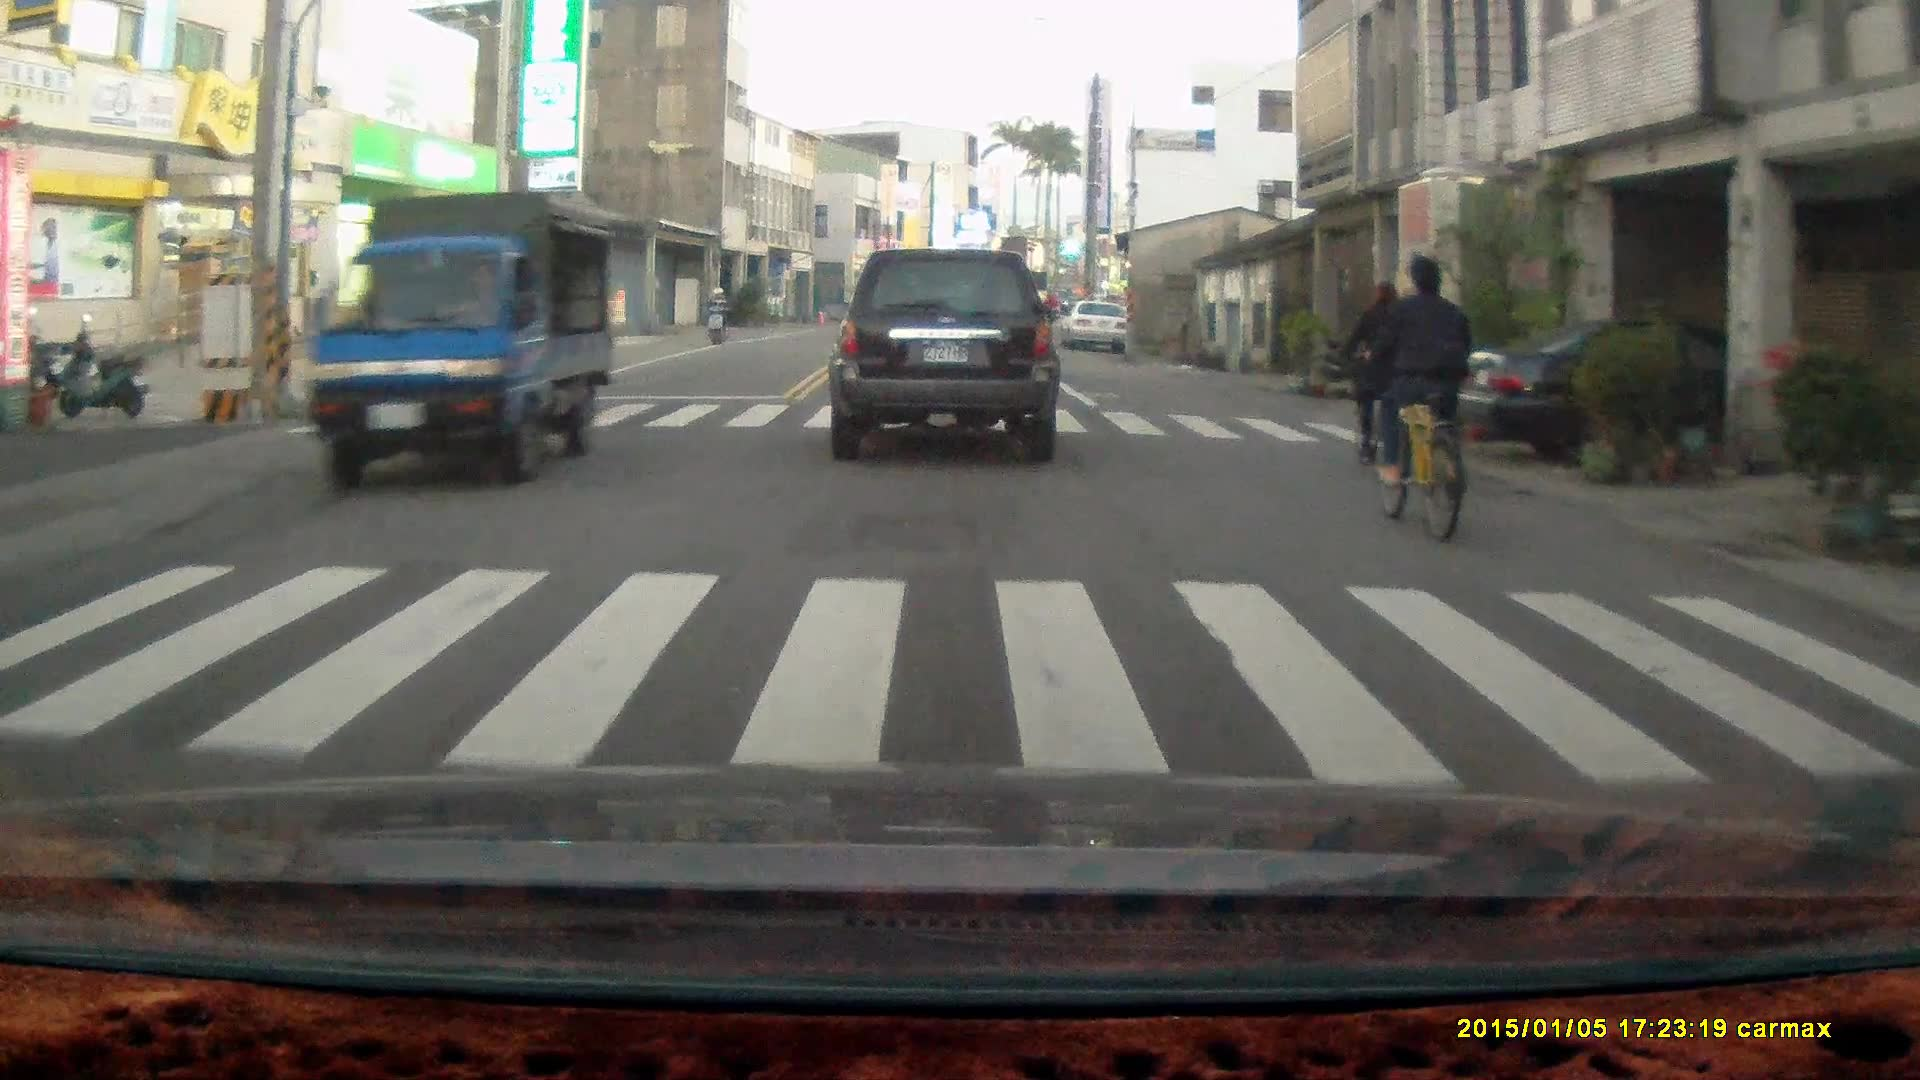rider: (1361, 254, 1471, 546), (1337, 279, 1410, 477), (703, 283, 729, 346)
vehicle: (307, 187, 625, 489), (1450, 315, 1894, 469), (826, 246, 1062, 464), (1059, 303, 1134, 357)
